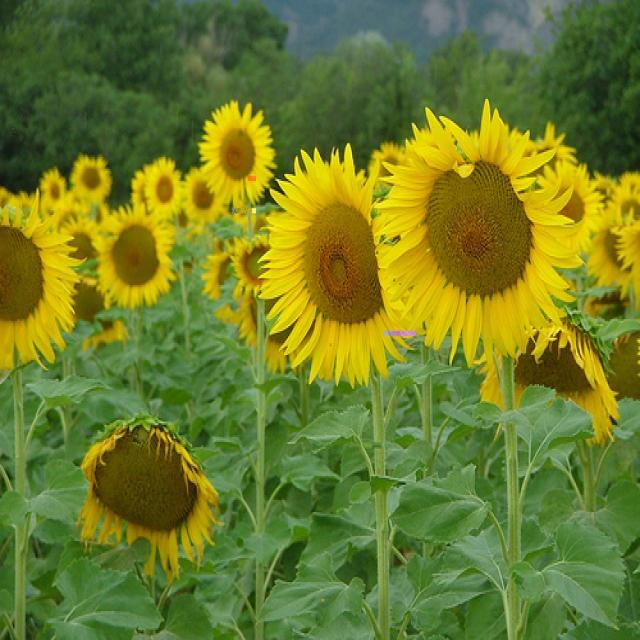sunflower: (374, 100, 584, 350), (258, 142, 413, 388), (80, 418, 222, 576), (476, 316, 620, 444), (0, 191, 86, 366), (92, 202, 177, 308), (198, 101, 277, 205), (231, 287, 296, 373), (534, 161, 605, 223), (586, 218, 636, 298), (522, 122, 578, 182), (607, 320, 640, 408), (230, 236, 272, 294), (147, 156, 185, 219), (62, 214, 104, 262), (183, 167, 219, 217), (202, 245, 234, 300), (72, 158, 112, 200), (368, 141, 405, 184), (607, 185, 640, 232), (82, 317, 130, 348), (68, 278, 102, 320), (615, 222, 640, 270), (584, 287, 626, 312), (40, 168, 66, 207), (132, 171, 153, 210), (218, 305, 240, 325), (622, 170, 640, 194)
